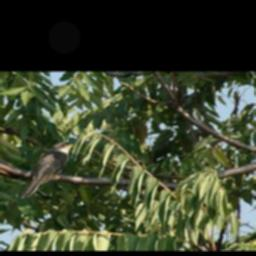Cuckoo: (16, 140, 76, 200)
